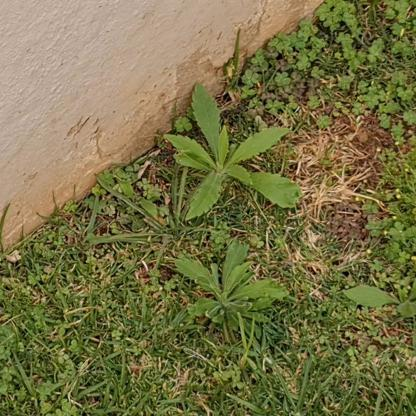Weeds: (163, 80, 303, 222), (171, 237, 289, 337), (345, 269, 415, 318)
